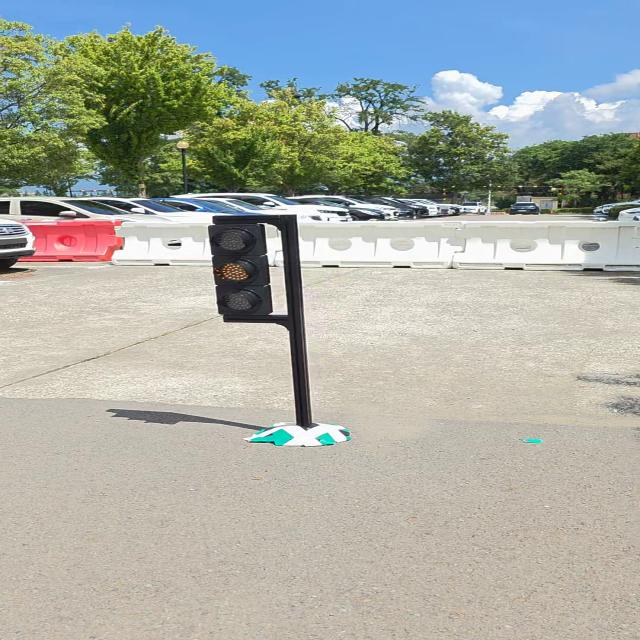yellow: (207, 223, 276, 316)
